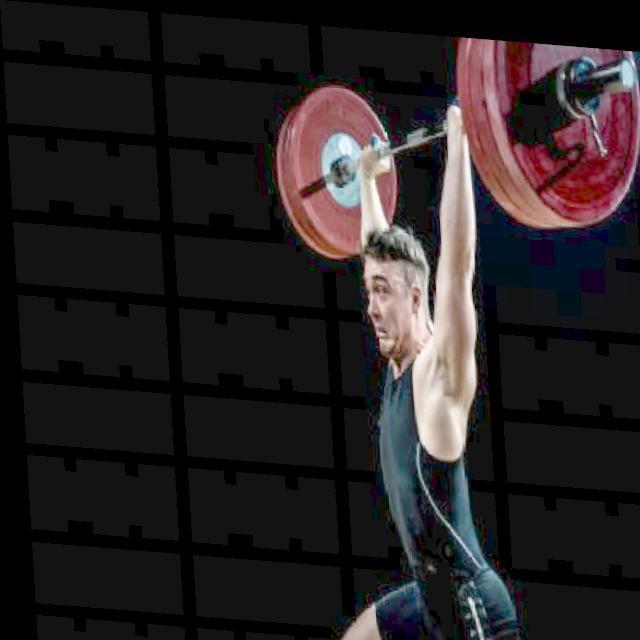barbell: (483, 32, 640, 223)
